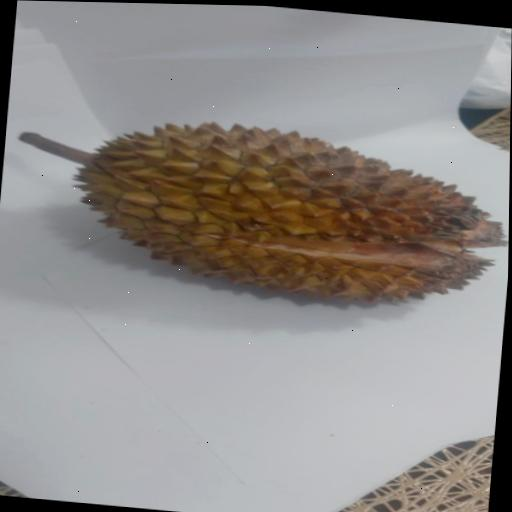rot: (0, 93, 511, 328)
